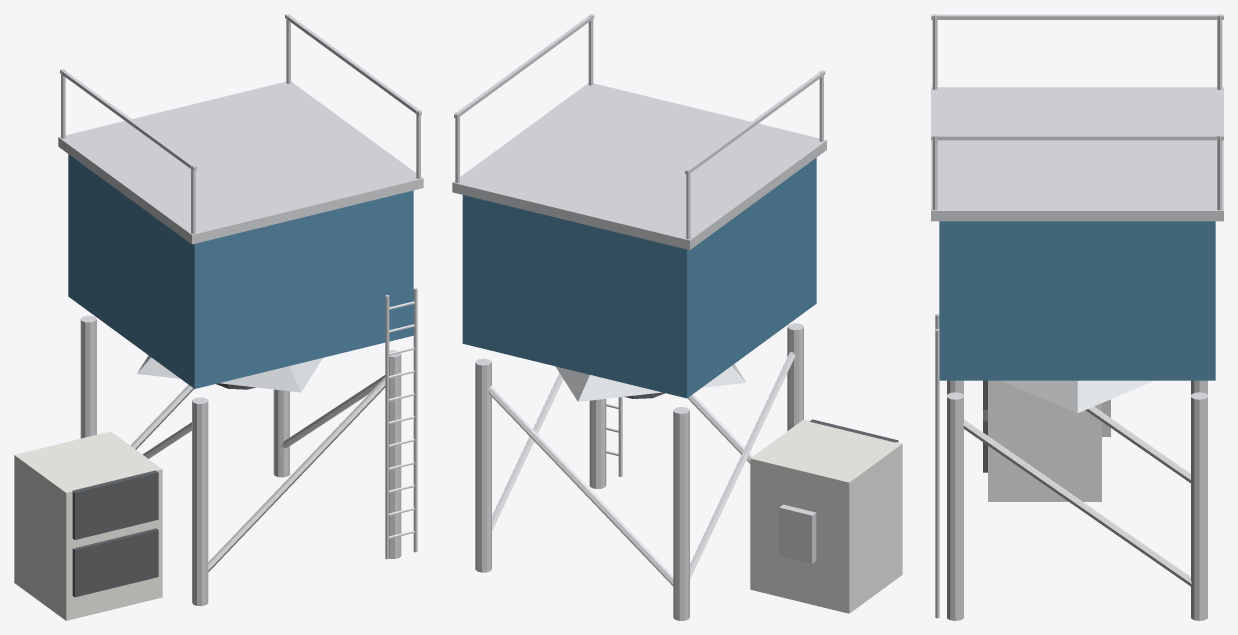
File: fish-market-and-trawler-quay-fish-market-and-trawler-q-010acf03__37274.glb
The picture shows the model from 3 angles, left to right: view 1: azimuth 30°, elevation 25°; view 2: azimuth 150°, elevation 25°; view 3: azimuth 270°, elevation 25°; orthographic projection. The views are drawn at different scales.
Visible parts, largest first — view 1: fish-market-and-trawler-quay-ice-plant-hopper; view 2: fish-market-and-trawler-quay-ice-plant-hopper; view 3: fish-market-and-trawler-quay-ice-plant-hopper.
Part boxes in pixels (<box>): fish-market-and-trawler-quay-ice-plant-hopper: <box>14,14,423,620</box>; fish-market-and-trawler-quay-ice-plant-hopper: <box>452,14,902,620</box>; fish-market-and-trawler-quay-ice-plant-hopper: <box>931,14,1223,620</box>.
Size of the model in its own units: 5.15 by 6.65 by 3.6.
